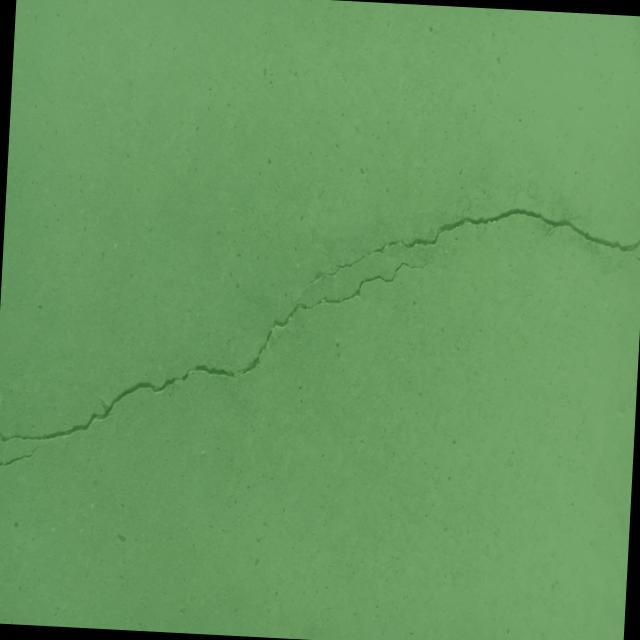crack: (0, 176, 640, 477), (0, 441, 47, 472), (637, 257, 640, 260)
